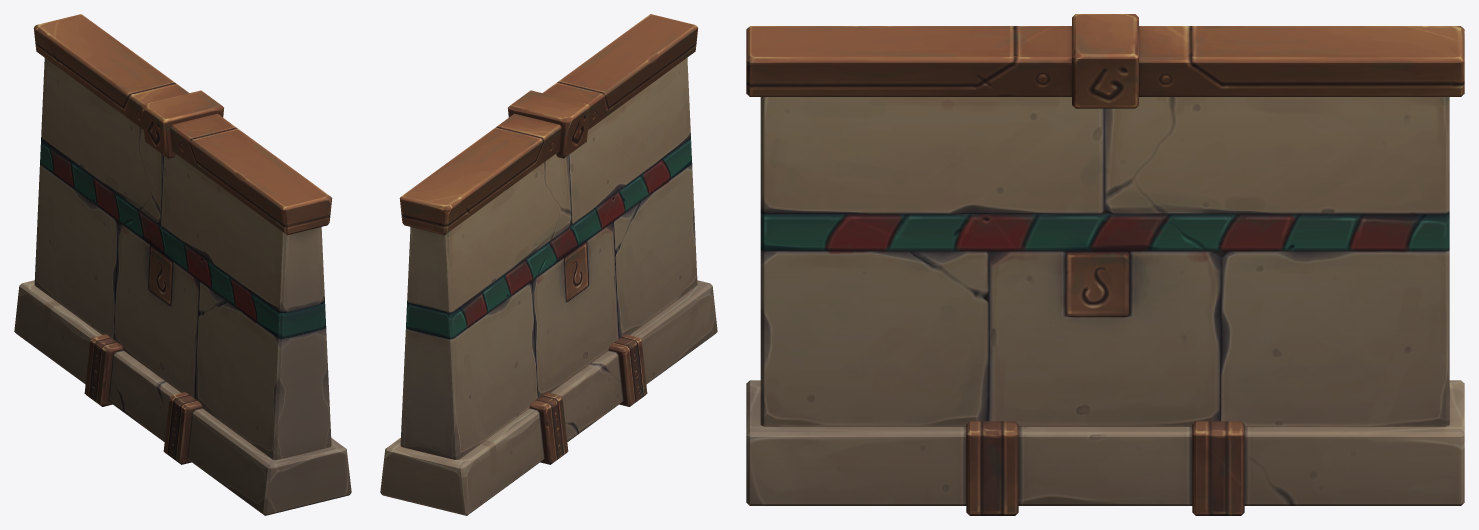
Rendered from wall_tile_01.fbx.
3 renders of one model, left to right at view 1: azimuth 30°, elevation 25°; view 2: azimuth 150°, elevation 25°; view 3: azimuth 270°, elevation 25°, orthographic. The views are drawn at different scales.
Parts seen in each view (by area): view 1: wh_wall_tile_01; view 2: wh_wall_tile_01; view 3: wh_wall_tile_01.
Boxes of the visible parts, x1,y1,x2,y2 form: wh_wall_tile_01: (14, 14, 351, 515); wh_wall_tile_01: (380, 14, 717, 515); wh_wall_tile_01: (746, 14, 1464, 515).
Size of the model in its own units: 1.49 by 4.37 by 6.36.
